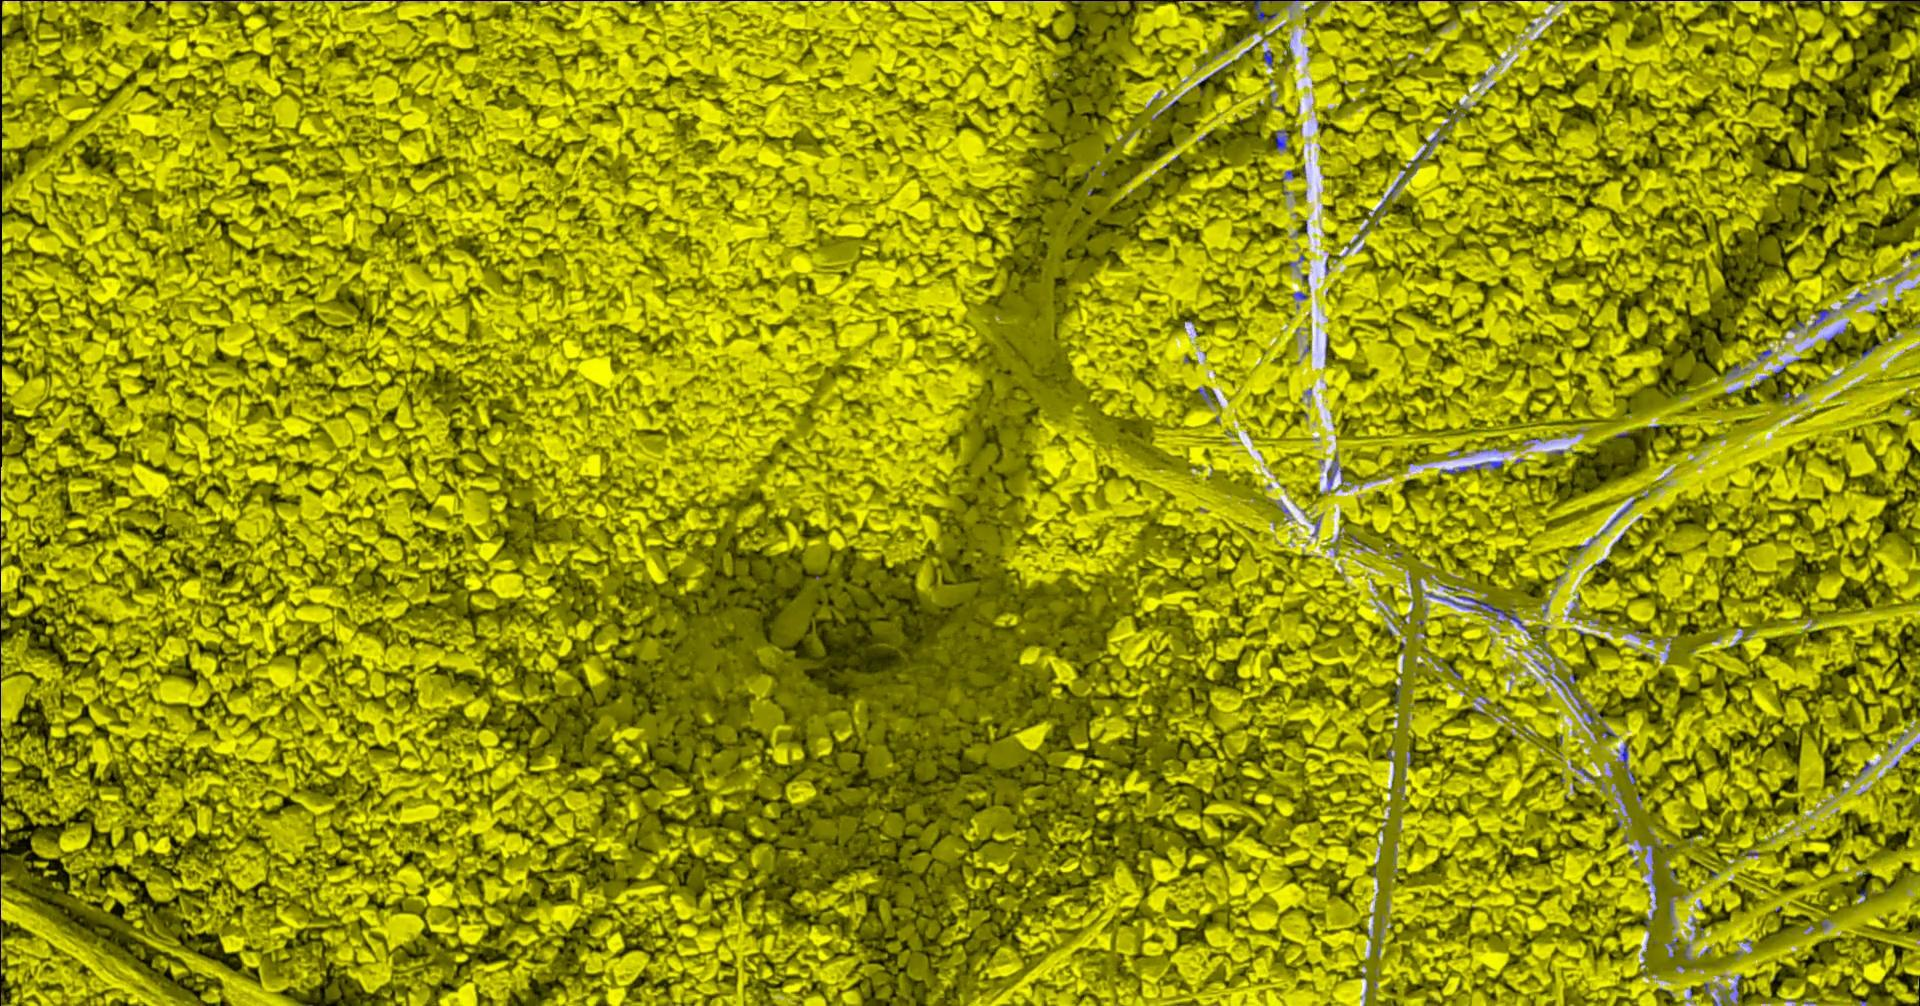ant: (1429, 592, 1525, 627), (1243, 0, 1276, 22), (1326, 457, 1342, 490), (1440, 464, 1483, 473), (1811, 309, 1829, 326), (1275, 130, 1288, 149), (1263, 50, 1272, 66)
